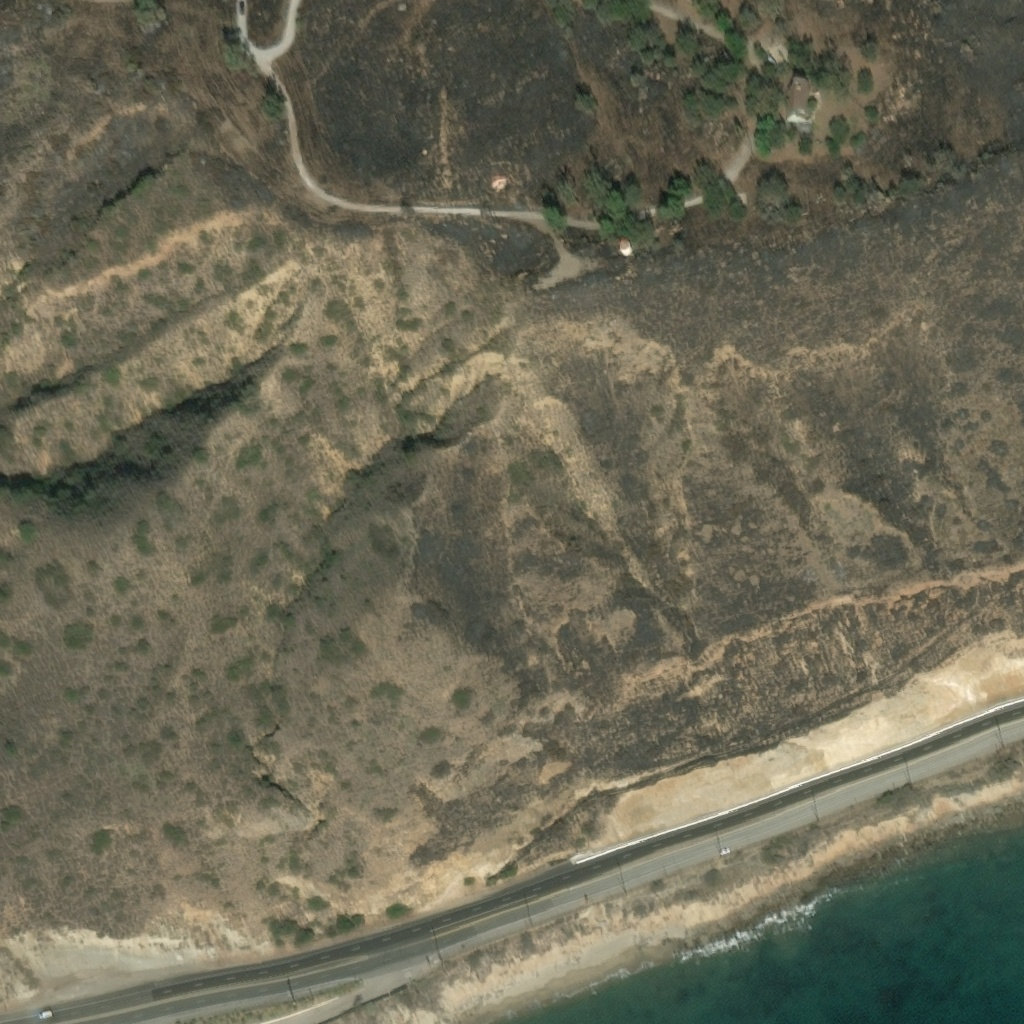0 no-damage: (785, 79, 809, 121), (619, 243, 633, 257)
4 un-classified: (733, 188, 745, 201), (494, 180, 506, 190), (740, 131, 749, 142), (766, 53, 774, 62), (398, 2, 406, 10)
